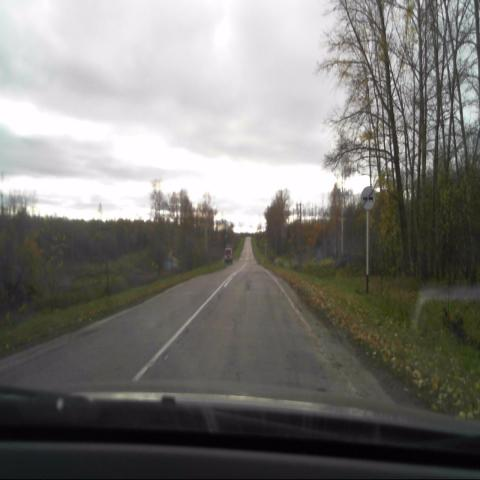3_21: (360, 184, 376, 210)
